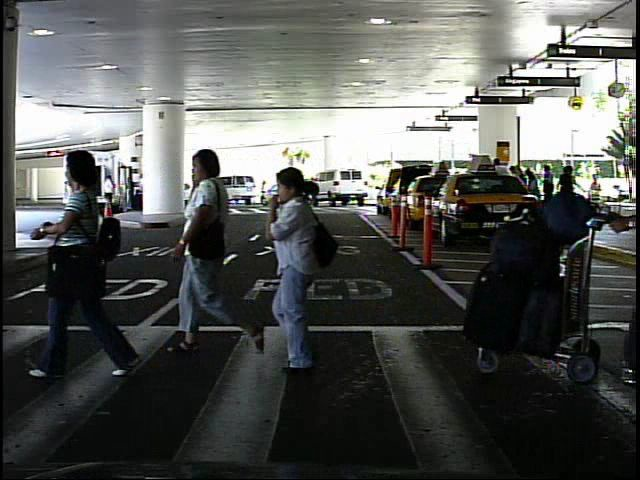person: (34, 134, 136, 382), (246, 160, 349, 381), (163, 138, 261, 360), (100, 172, 118, 222), (587, 172, 606, 218), (258, 178, 269, 204)
